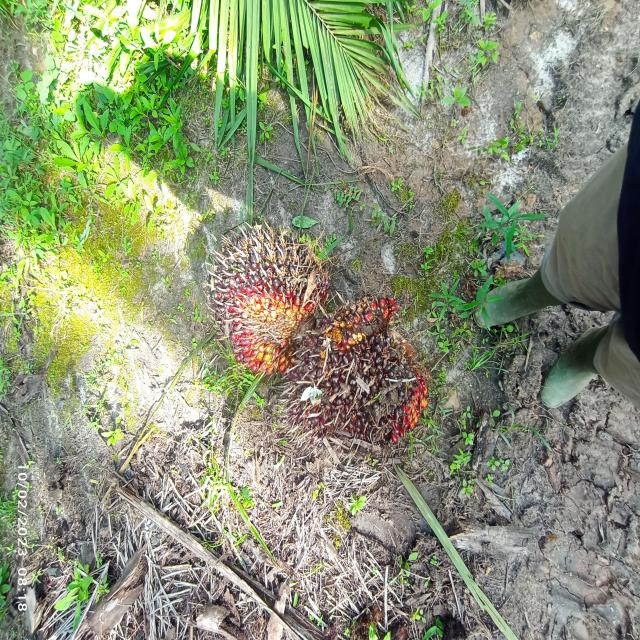fraksi 1: (300, 271, 432, 469), (193, 204, 331, 379)
